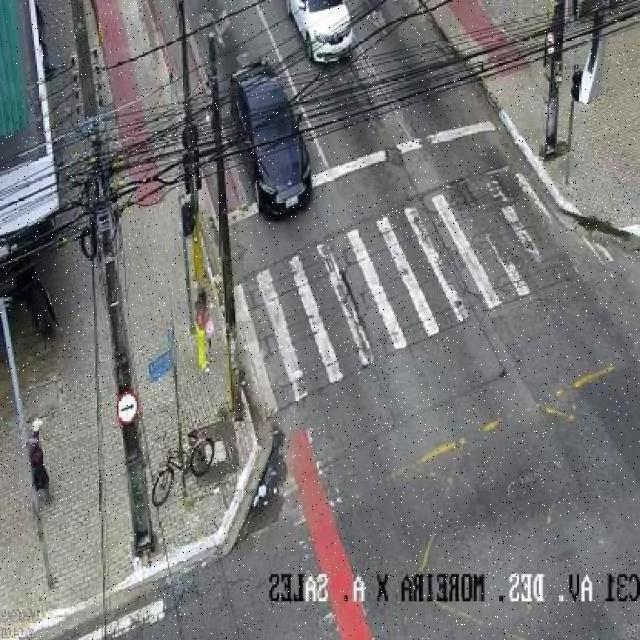Car: (229, 66, 316, 226), (282, 1, 358, 68)
